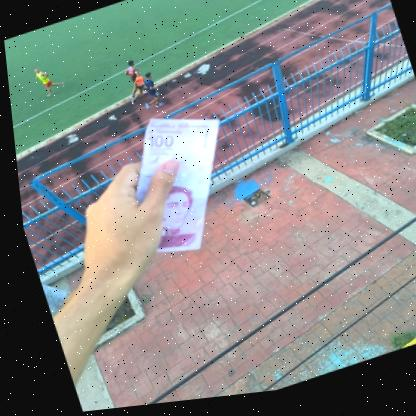one_hundred-front-vef: (107, 97, 252, 269)
